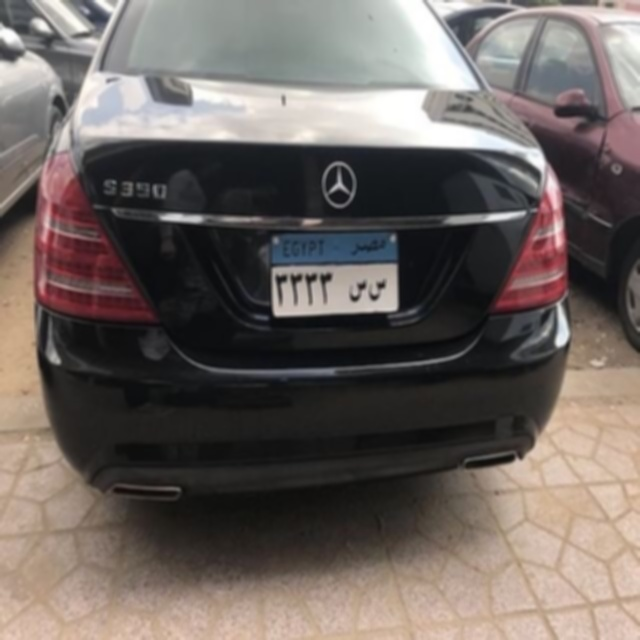License Plate: (267, 228, 401, 319)
